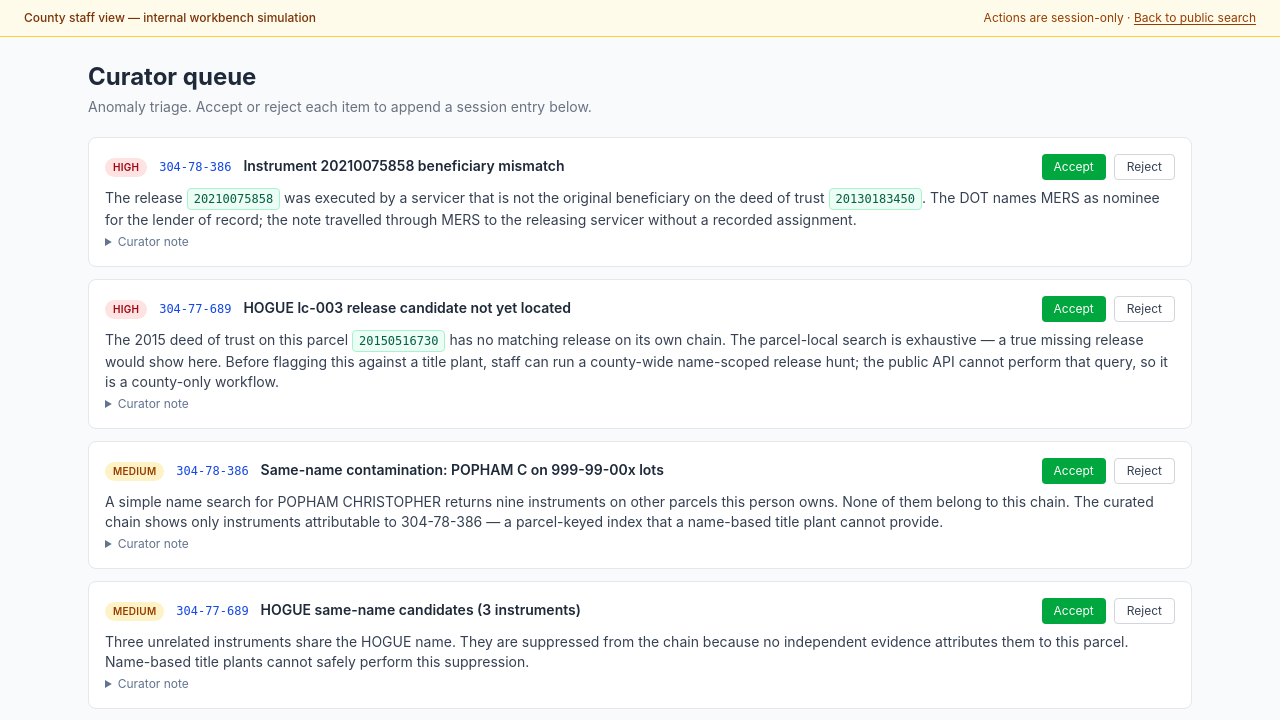
Scenario: CuratorQueue › accept button appends a row to the audit log
This screenshot has width=1280, height=720.
Click the 1st button "Accept" at [1074, 167], box [1042,154,1106,180]
(page scrolled)
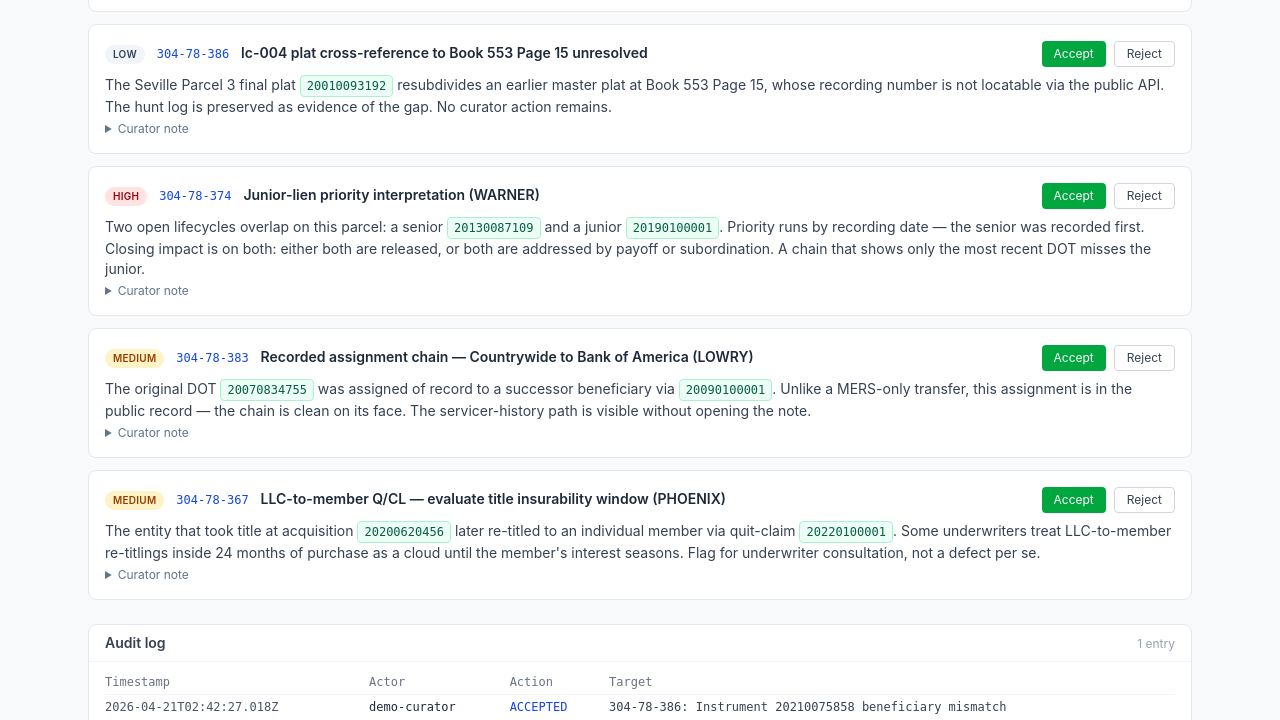
Check: the heading "Audit log" is shown, box [105,633,166,653]
Check: the text "ACCEPTED" is shown, box [510,694,609,719]
